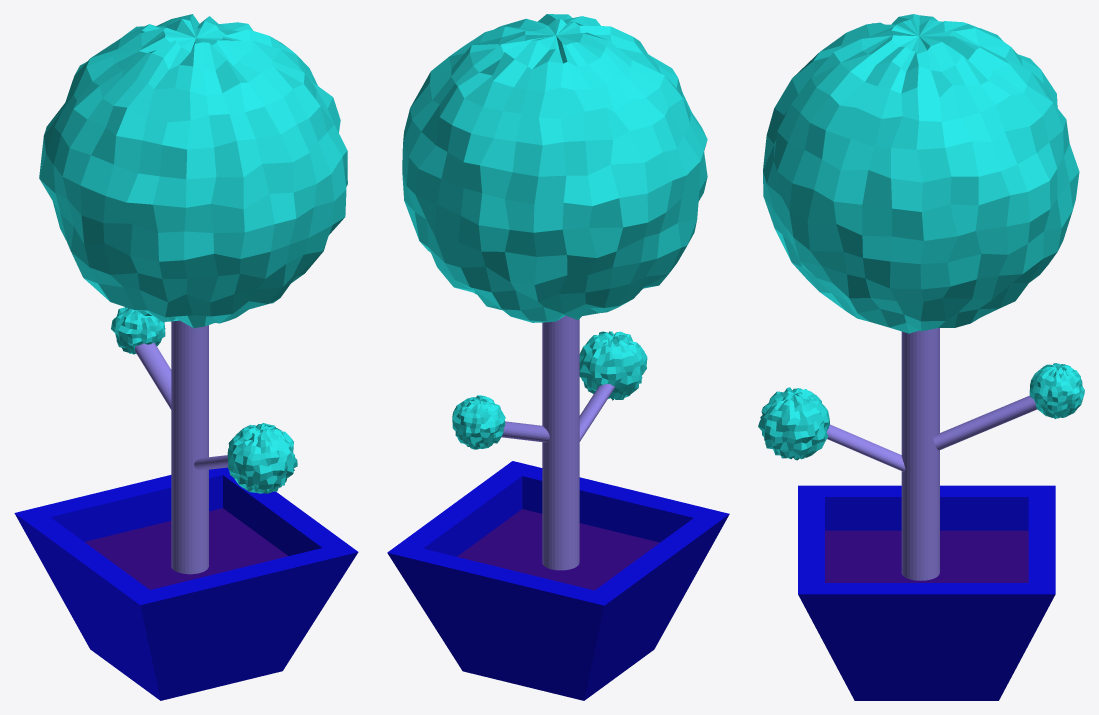
The model's file is plantongus.fbx.
The picture shows the model from 3 angles, left to right: view 1: azimuth 30°, elevation 25°; view 2: azimuth 150°, elevation 25°; view 3: azimuth 270°, elevation 25°; orthographic projection. The views are drawn at different scales.
Parts seen in each view (by area): view 1: Cube.012; view 2: Cube.012; view 3: Cube.012.
Boxes of the visible parts, <box> form: Cube.012: <box>14,14,358,700</box>; Cube.012: <box>387,14,729,700</box>; Cube.012: <box>758,14,1084,700</box>.
Bounding box in the file's own units: 1229 × 2797 × 1287.
